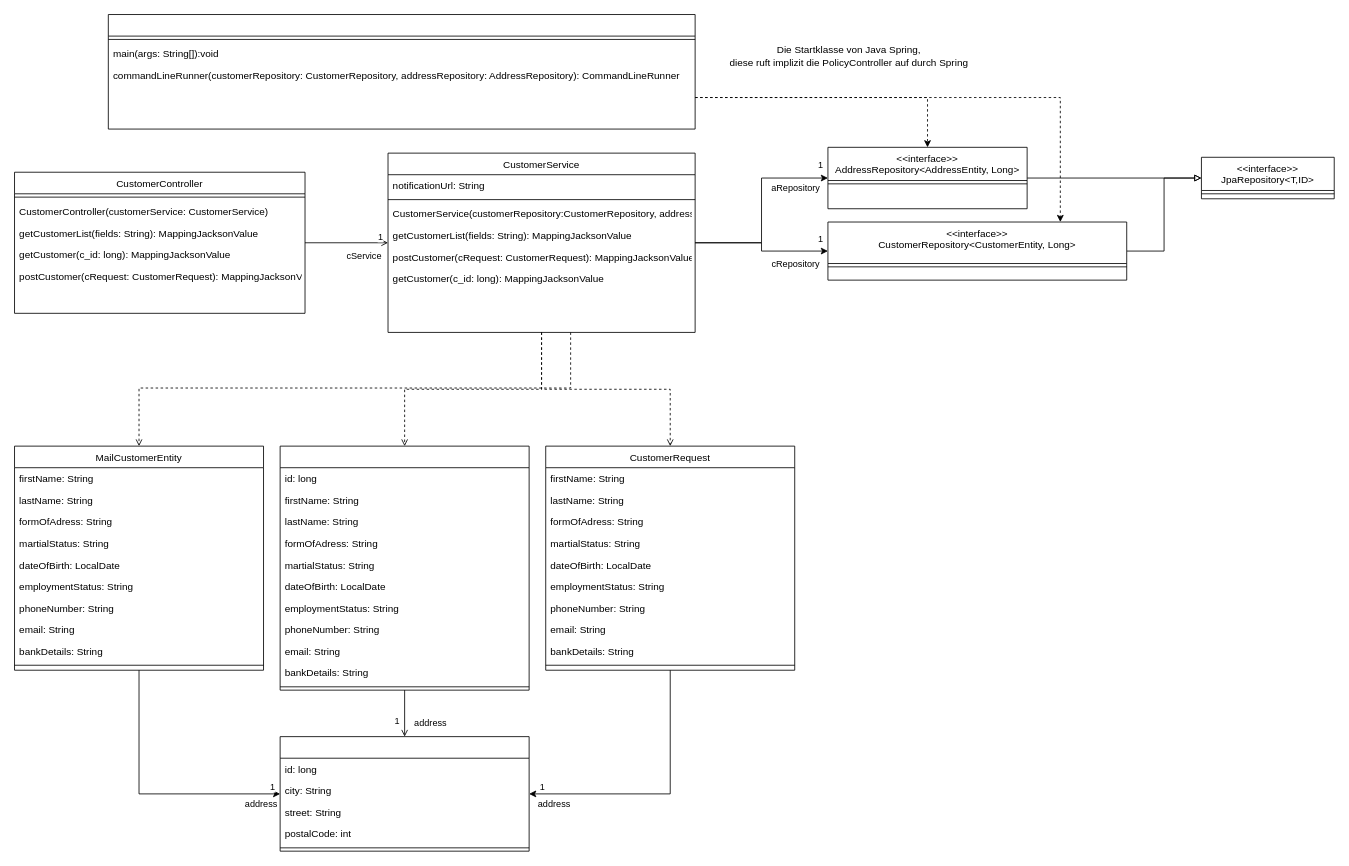
Some shapes in this 1349 by 866 pixel diagram are drawn without their labels. The box of each missing label's shape, as (x1, y1, x2, y2) in pixels:
AddressEntity: (279, 736, 529, 851)
CustomerApplikation: (107, 14, 695, 129)
CustomerEntity: (279, 445, 529, 690)
